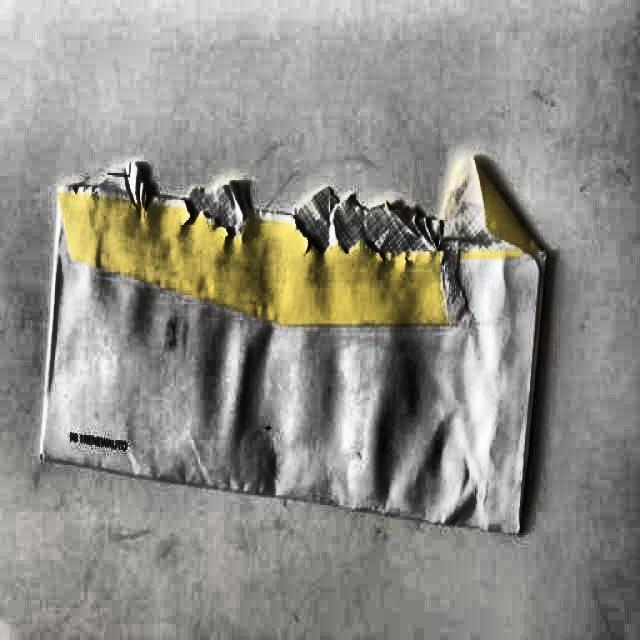cardboard: (37, 156, 557, 536)
